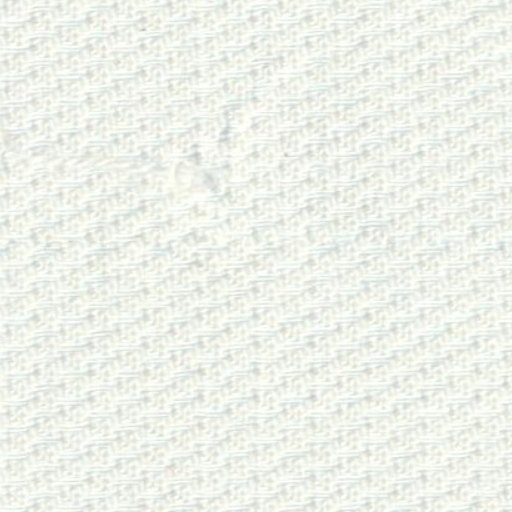DuanSha: (112, 119, 236, 222)
